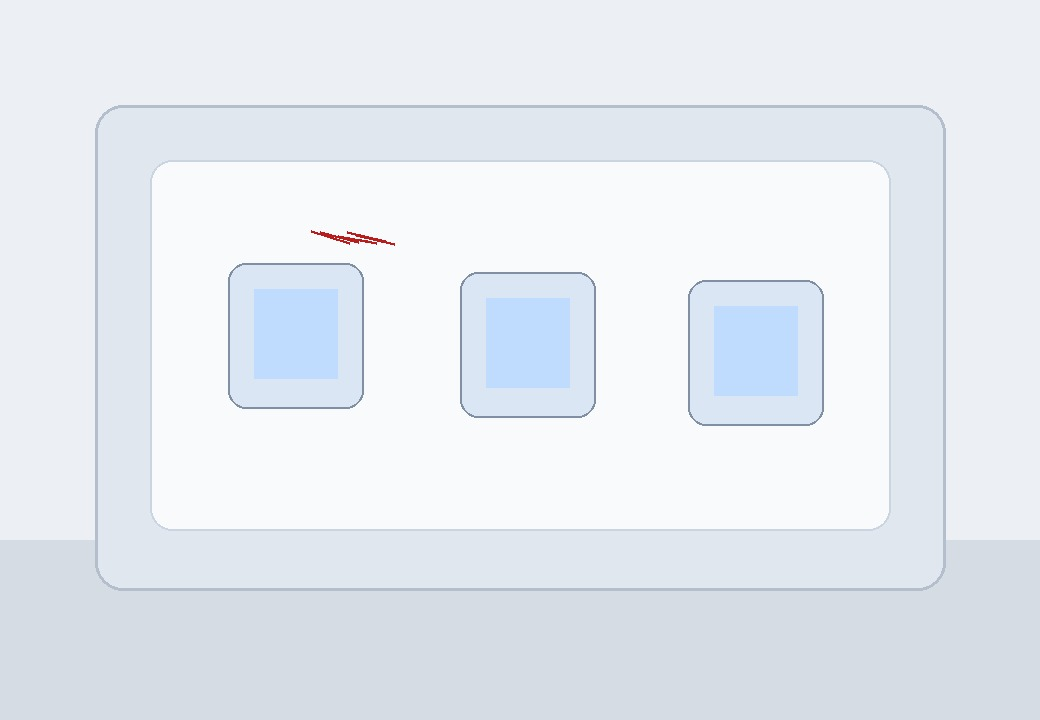dent: (500, 310, 585, 366)
ok_region: (253, 260, 383, 390)
scratch: (320, 285, 430, 330)
stain: (668, 245, 763, 307)
